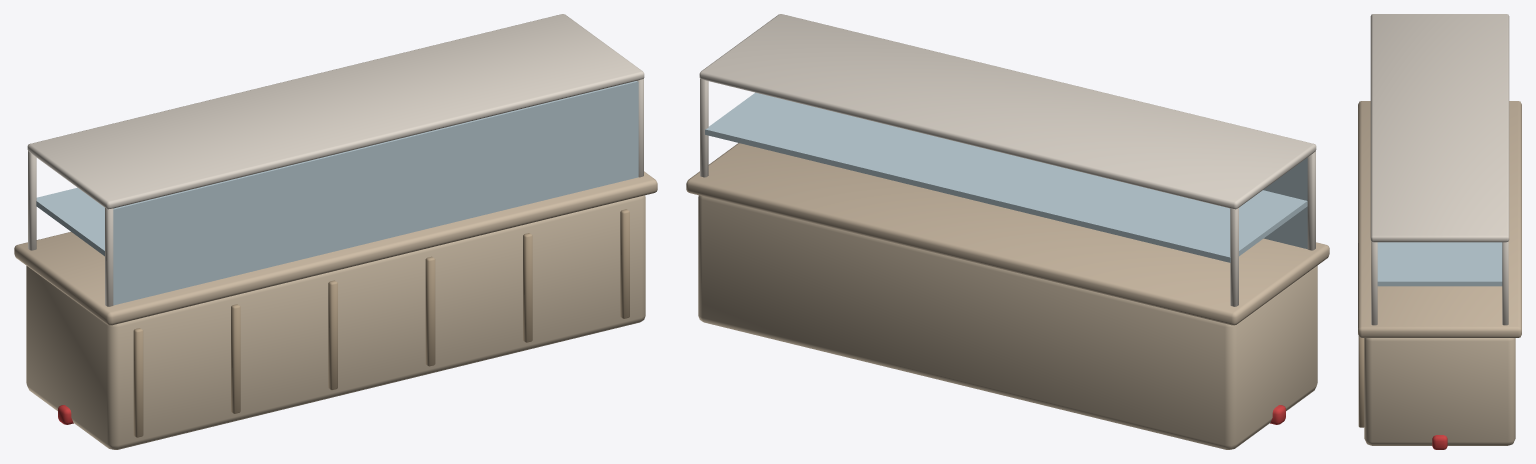
File: f_display.glb
3 renders of one model, left to right at view 1: azimuth 30°, elevation 25°; view 2: azimuth 150°, elevation 25°; view 3: azimuth 270°, elevation 25°, orthographic. The views are drawn at different scales.
Visible parts, largest first — view 1: f_display, Glass_f_display; view 2: f_display, Glass_f_display; view 3: f_display, Glass_f_display.
Part boxes in pixels (x1,y1,x2,y2): f_display: (14,14,657,449); Glass_f_display: (36,81,638,305); f_display: (686,14,1329,449); Glass_f_display: (705,92,1307,262); f_display: (1358,14,1521,449); Glass_f_display: (1377,242,1502,286).
Bounding box in the file's own units: 4.3 × 1.86 × 1.3.
